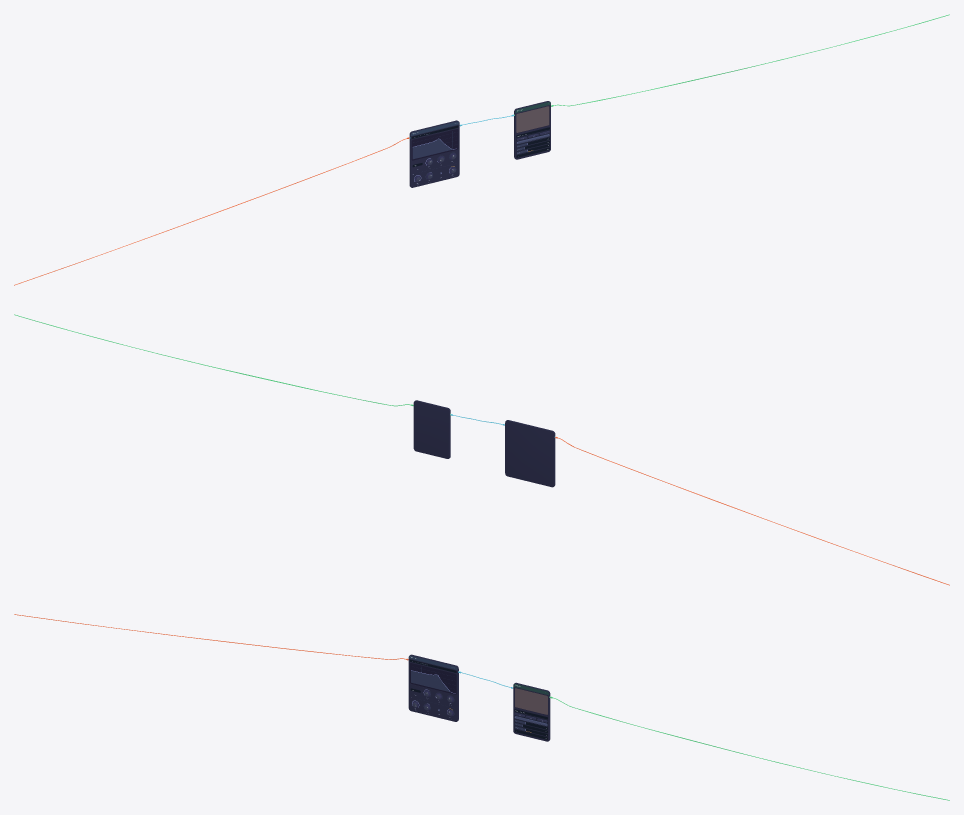
Rendered from node_chain_wide.glb.
3 renders of one model, top to bottom at view 1: azimuth 30°, elevation 25°; view 2: azimuth 150°, elevation 25°; view 3: azimuth 330°, elevation 25°, orthographic.
Visible parts, largest first — view 1: b_edit.001, cable.004, view_floor.002; view 2: b_edit.001, cable.004; view 3: b_edit.001, cable.004, view_floor.002.
Boxes of the visible parts, x1,y1,x2,y2 form: b_edit.001: (407, 101, 553, 187); cable.004: (14, 14, 949, 285); view_floor.002: (411, 106, 549, 160); b_edit.001: (411, 400, 557, 487); cable.004: (14, 314, 949, 585); b_edit.001: (406, 654, 552, 741); cable.004: (14, 614, 949, 800); view_floor.002: (410, 663, 547, 715).
Bounding box in the file's own units: 8.8 × 0.5138 × 0.0324.
5 materials, 5 textured.
